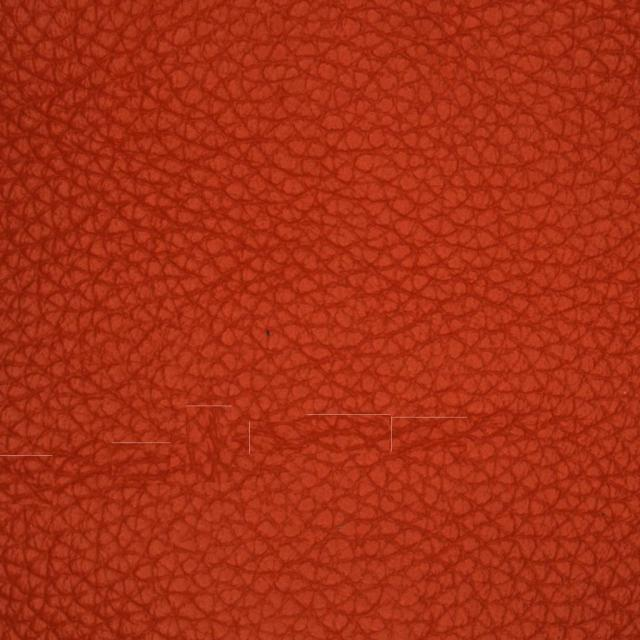Healed Injury: (42, 379, 258, 508), (283, 387, 596, 475)
pinhole: (177, 277, 381, 385)
